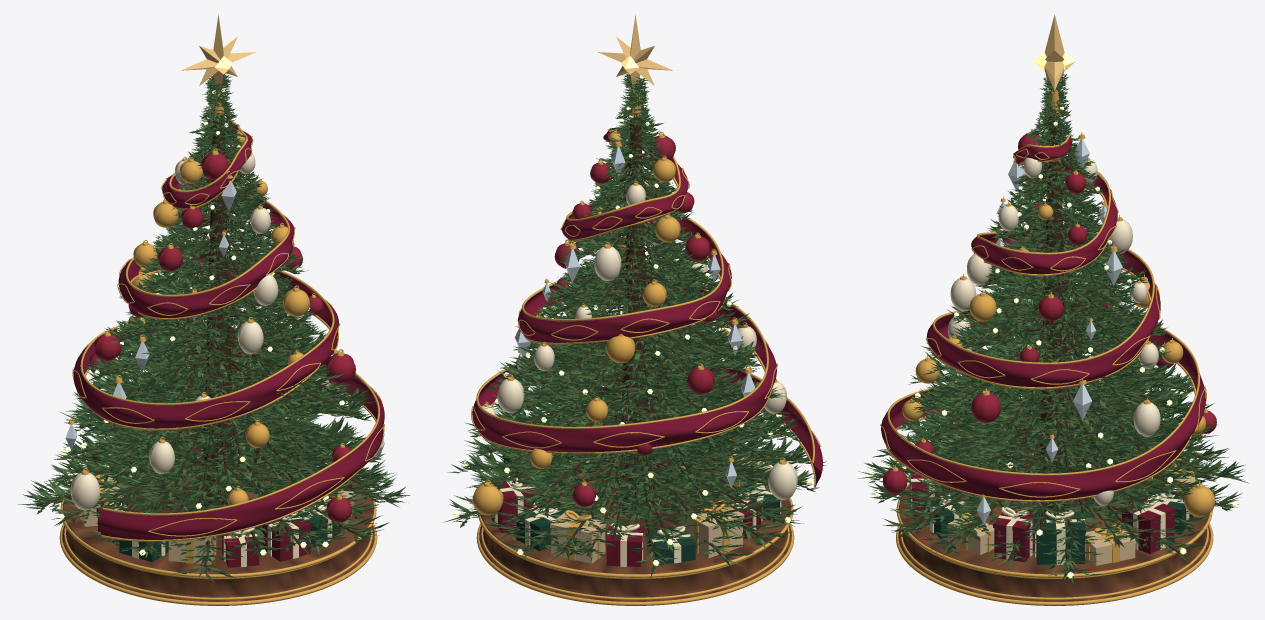
Rendered from christmas-tree.glb.
3 views of the same model, side by side, from view 1: azimuth 30°, elevation 25°; view 2: azimuth 150°, elevation 25°; view 3: azimuth 270°, elevation 25° (orthographic).
Visible parts, largest first — view 1: Noble fir • foliage, Burgundy velvet, Champagne gold, Walnut • turned plinth, Trunk and stems, Ruby glass, Pearl ornaments, Gift wrap • ruby, Ivory satin, Star • warm gold, Gift wrap • champagne, Faceted crystal (+2 smaller); view 2: Noble fir • foliage, Burgundy velvet, Champagne gold, Walnut • turned plinth, Trunk and stems, Pearl ornaments, Ruby glass, Gift wrap • champagne, Gift wrap • ruby, Ivory satin, Gift wrap • forest, Faceted crystal (+2 smaller); view 3: Noble fir • foliage, Burgundy velvet, Champagne gold, Walnut • turned plinth, Trunk and stems, Pearl ornaments, Ruby glass, Gift wrap • ruby, Ivory satin, Gift wrap • forest, Faceted crystal, Gift wrap • champagne (+2 smaller).
Part boxes in pixels (left/top/right/bottom): Noble fir • foliage: left=18, top=72, right=410, bottom=583; Burgundy velvet: left=73, top=121, right=384, bottom=539; Champagne gold: left=59, top=90, right=384, bottom=605; Walnut • turned plinth: left=62, top=462, right=374, bottom=601; Trunk and stems: left=36, top=84, right=395, bottom=573; Ruby glass: left=89, top=148, right=355, bottom=522; Pearl ornaments: left=70, top=153, right=328, bottom=510; Gift wrap • ruby: left=92, top=449, right=352, bottom=567; Ivory satin: left=103, top=428, right=332, bottom=567; Star • warm gold: left=181, top=14, right=255, bottom=92; Gift wrap • champagne: left=77, top=435, right=355, bottom=564; Faceted crystal: left=65, top=138, right=384, bottom=457; Noble fir • foliage: left=443, top=73, right=826, bottom=577; Burgundy velvet: left=472, top=129, right=822, bottom=489; Champagne gold: left=471, top=92, right=820, bottom=605; Walnut • turned plinth: left=479, top=462, right=791, bottom=601; Trunk and stems: left=460, top=83, right=805, bottom=562; Pearl ornaments: left=481, top=139, right=797, bottom=499; Ruby glass: left=554, top=135, right=717, bottom=506; Gift wrap • champagne: left=494, top=454, right=771, bottom=563; Gift wrap • ruby: left=491, top=449, right=762, bottom=566; Ivory satin: left=494, top=439, right=781, bottom=566; Gift wrap • forest: left=502, top=448, right=781, bottom=564; Faceted crystal: left=515, top=147, right=755, bottom=487; Noble fir • foliage: left=858, top=74, right=1248, bottom=583; Burgundy velvet: left=881, top=137, right=1205, bottom=500; Champagne gold: left=880, top=91, right=1214, bottom=605; Walnut • turned plinth: left=898, top=447, right=1210, bottom=601; Trunk and stems: left=876, top=89, right=1234, bottom=571; Pearl ornaments: left=948, top=157, right=1160, bottom=505; Ruby glass: left=882, top=133, right=1216, bottom=493; Gift wrap • ruby: left=910, top=453, right=1189, bottom=562; Ivory satin: left=911, top=443, right=1189, bottom=564; Gift wrap • forest: left=922, top=434, right=1193, bottom=564; Faceted crystal: left=976, top=139, right=1122, bottom=524; Gift wrap • champagne: left=944, top=434, right=1195, bottom=565.
Size of the model in its own units: 6.47 by 9.46 by 6.42.
